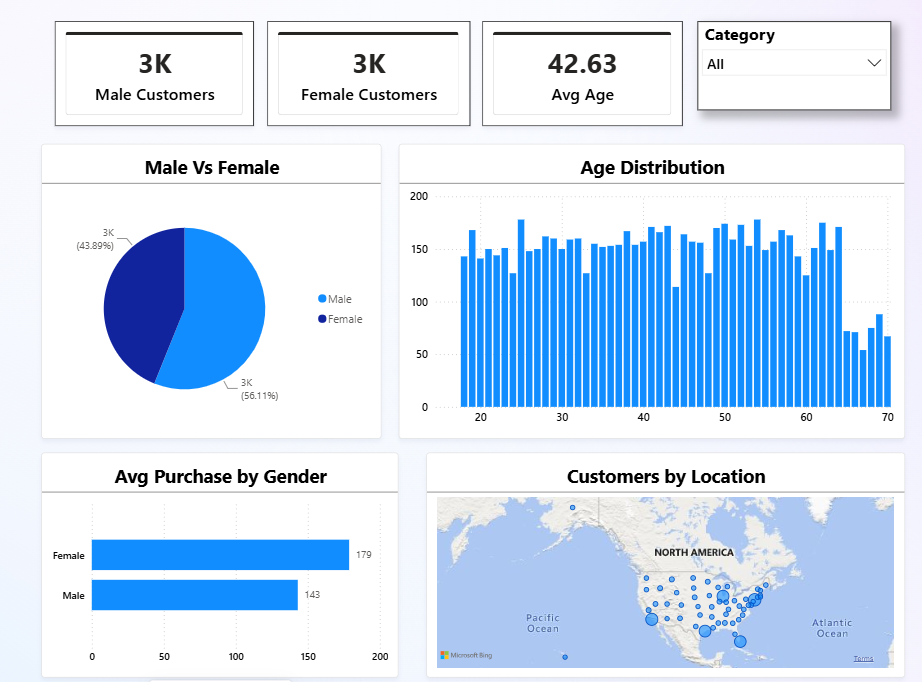

What the dashboard file says about the page in this screenshot:
{"tool":"powerbi","page":{"name":"Customer Analysis ","canvas":[1150,900],"ordinal":2},"visuals":[{"type":"cardVisual","fields":{"Data":["Project_Shopping_Trends.Male Customers"]},"box":[67.3,32.1,243,128.4],"z":0},{"type":"cardVisual","fields":{"Data":["Project_Shopping_Trends.Female Customers"]},"box":[327.1,32.1,247.6,128.4],"z":1000},{"type":"cardVisual","fields":{"Data":["Project_Shopping_Trends.Avg Age"]},"box":[590,32.1,244.6,128.4],"z":2000},{"type":"pieChart","title":"Male Vs Female","fields":{"Y":["Project_Shopping_Trends.Total Customers"],"Category":["Project_Shopping_Trends.Gender"]},"box":[50.4,181.9,415.8,360.7],"z":3000},{"type":"clusteredColumnChart","title":"Age Distribution","fields":{"Y":["Project_Shopping_Trends.Total Customers"],"Category":["Project_Shopping_Trends.Age"]},"box":[487.6,181.9,619.1,360.7],"z":4000},{"type":"clusteredBarChart","title":"Avg Purchase by Gender","fields":{"Category":["Project_Shopping_Trends.Gender"],"Y":["Project_Shopping_Trends.Avg Purchase"]},"box":[50.4,559.4,437.2,275.1],"z":5000},{"type":"map","title":"Customers by Location","fields":{"Size":["Project_Shopping_Trends.Total Customers"],"Category":["Project_Shopping_Trends.Location"]},"box":[521.2,559.4,585.4,275.1],"z":6000},{"type":"slicer","fields":{"Values":["Project_Shopping_Trends.Category"]},"box":[852.9,32.1,236.9,108.5],"z":7000}]}

Visuals, with their boxes on the page's 1150x900 design canvas (x1, y1, x2, y2). These are canvas units, not pixel positions in the 922x682 screenshot, which may show the page scaled, cropped or inside an application window:
cardVisual - Project_Shopping_Trends.Male Customers: (x1=67, y1=32, x2=310, y2=160)
cardVisual - Project_Shopping_Trends.Female Customers: (x1=327, y1=32, x2=575, y2=160)
cardVisual - Project_Shopping_Trends.Avg Age: (x1=590, y1=32, x2=835, y2=160)
"Male Vs Female" pieChart: (x1=50, y1=182, x2=466, y2=543)
"Age Distribution" clusteredColumnChart: (x1=488, y1=182, x2=1107, y2=543)
"Avg Purchase by Gender" clusteredBarChart: (x1=50, y1=559, x2=488, y2=834)
"Customers by Location" map: (x1=521, y1=559, x2=1107, y2=834)
slicer - Project_Shopping_Trends.Category: (x1=853, y1=32, x2=1090, y2=141)
